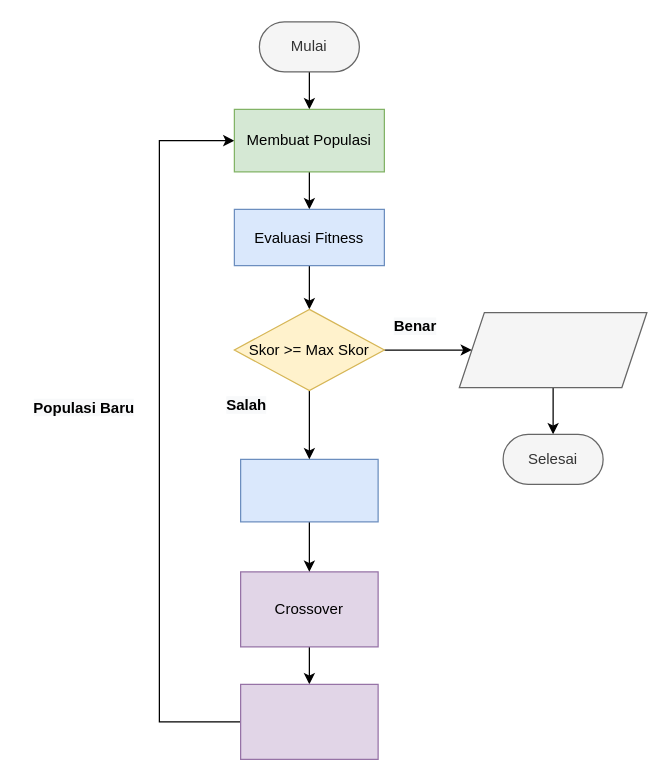
Image size: 669x781. Some labels were removed from this diagram. Each missing label, with the centre of its shape:
"Cromosome Terbaik" goes at (x=552, y=349).
"Membuat Mating Pool" goes at (x=308, y=490).
"Mutation" goes at (x=308, y=721).
